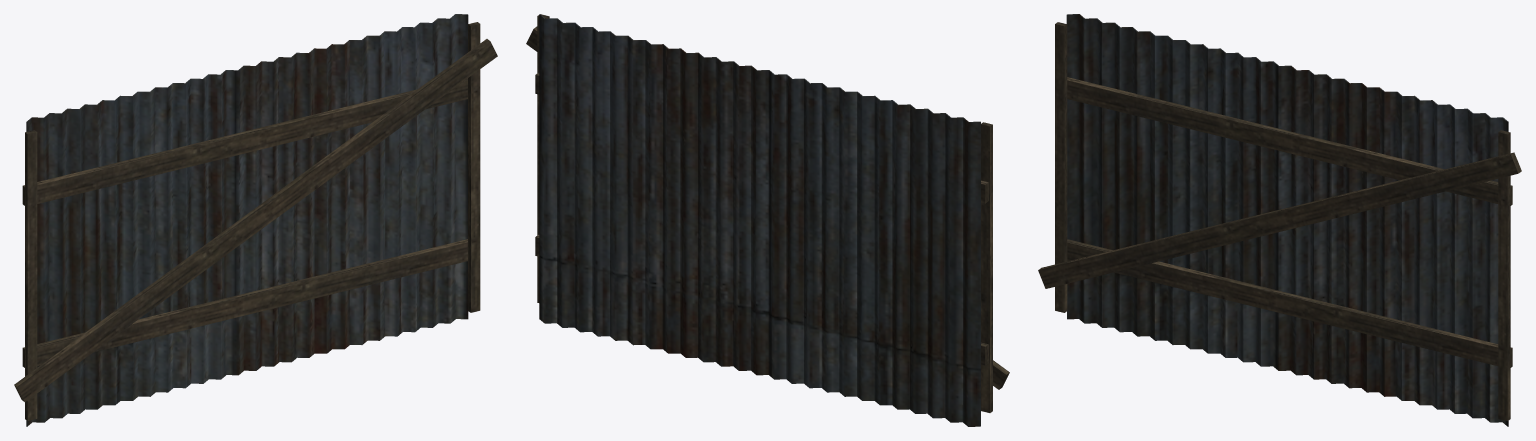
File: fence_b_1.obj
3 views of the same model, side by side, from view 1: azimuth 30°, elevation 25°; view 2: azimuth 150°, elevation 25°; view 3: azimuth 330°, elevation 25° (orthographic).
Visible parts, largest first — view 1: fence_b_1; view 2: fence_b_1; view 3: fence_b_1.
Boxes of the visible parts, box(x1,y1,x2,y2) form: fence_b_1: box(14, 14, 497, 426); fence_b_1: box(526, 14, 1009, 426); fence_b_1: box(1038, 14, 1521, 426).
Bounding box in the file's own units: 4.03 × 2.44 × 0.1983.
